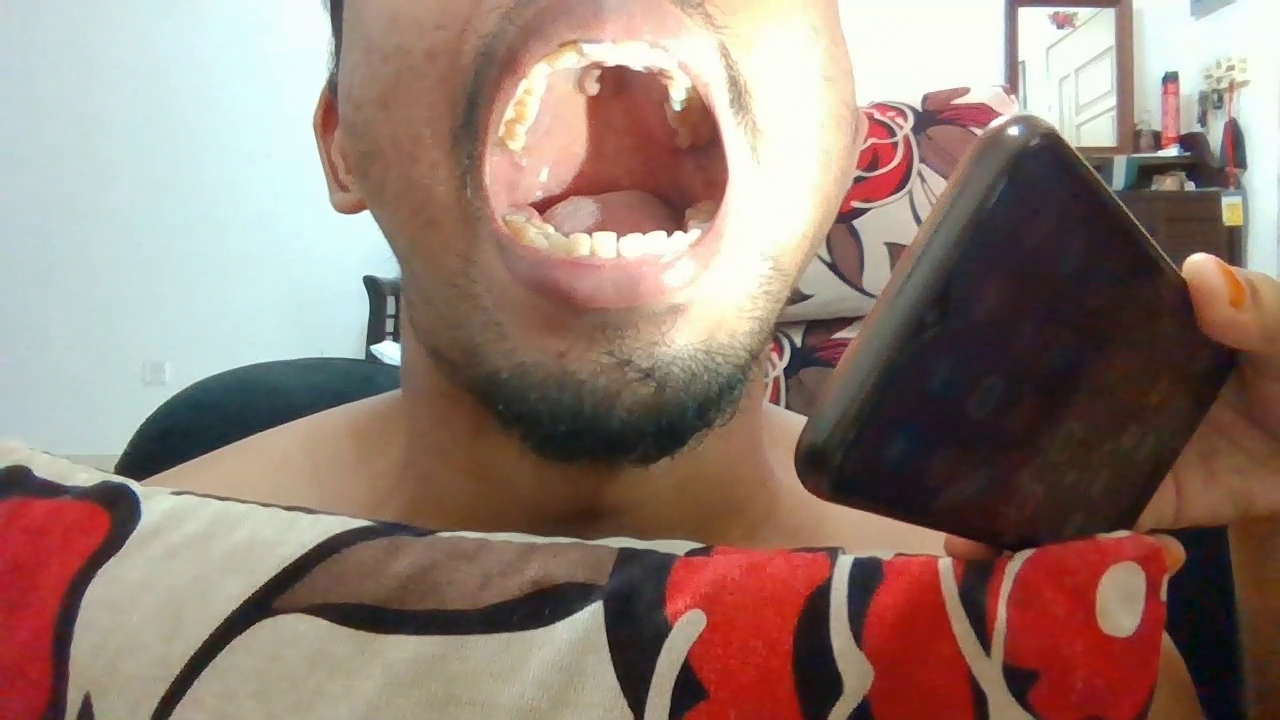1st Premolar: (529, 234, 548, 250), (688, 227, 702, 244)
3rd Molar: (684, 199, 720, 211), (504, 214, 527, 224)
Canine: (668, 228, 688, 253), (548, 232, 568, 256)
Central Incisor: (618, 229, 643, 257), (592, 231, 618, 257)
Lateral Incisor: (568, 232, 592, 259), (643, 229, 668, 254)
